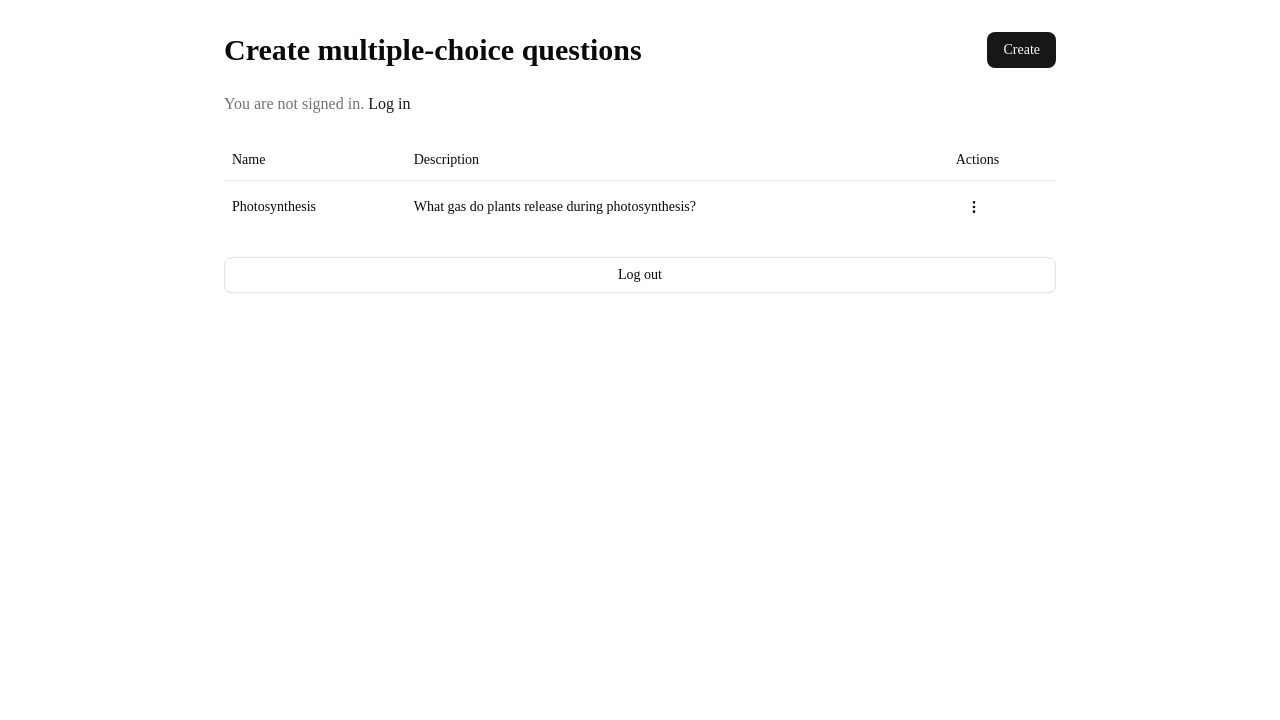
Test: McqStub › choosing Delete opens a confirmation dialog
Click the button named "actions". click: (974, 206)
box: [956,188,992,224]
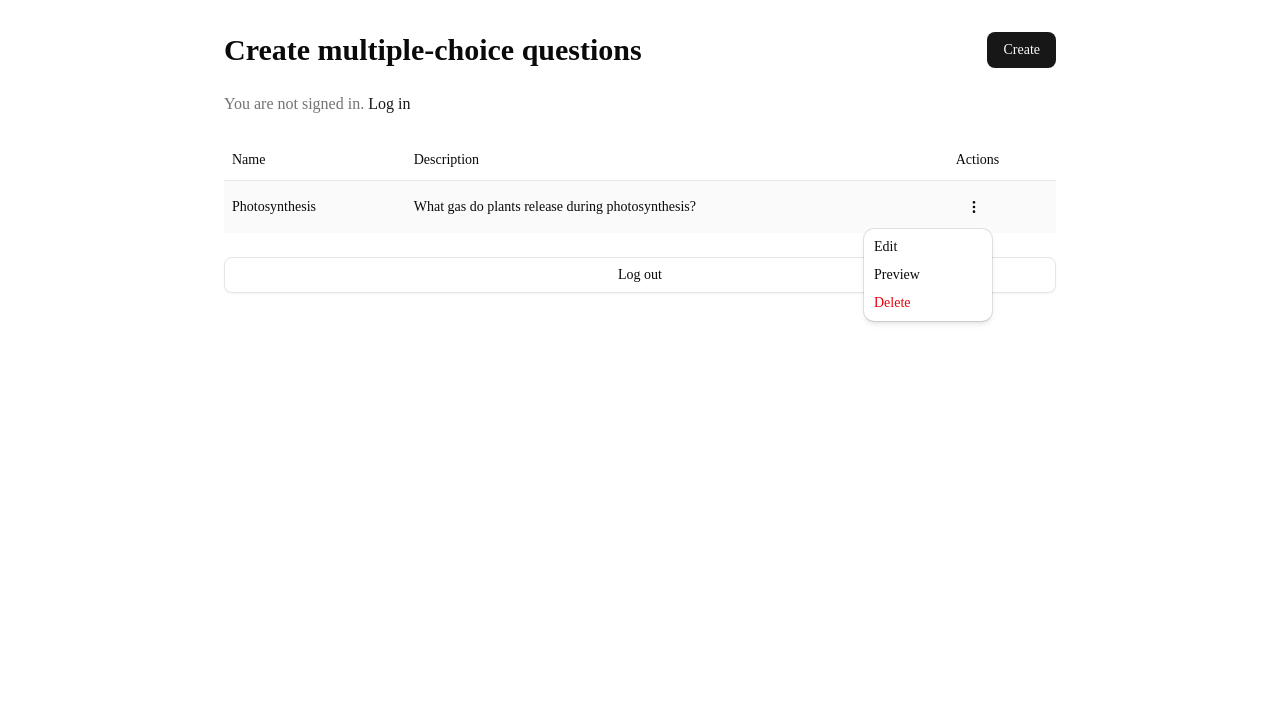
Click the menu item "Delete". click: (892, 302)
box: [874,295,910,310]
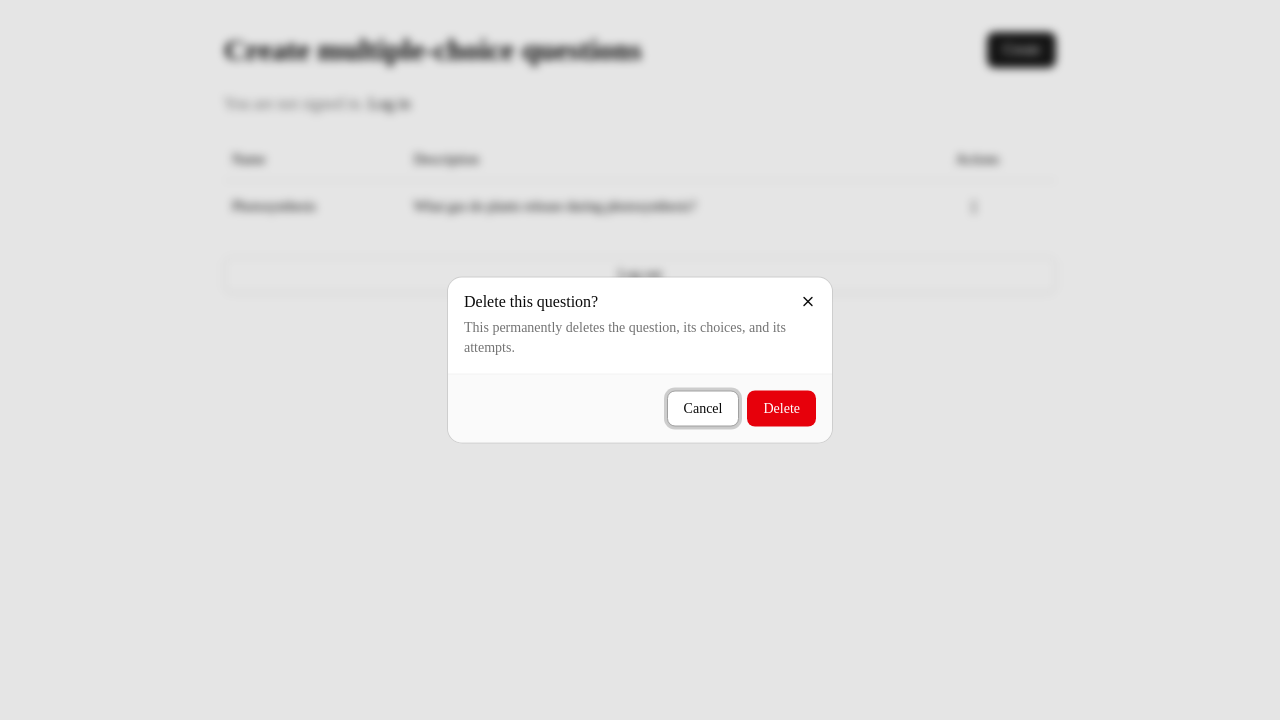
Now the heading "Delete this question?" is shown, box [464,292,598,310]
